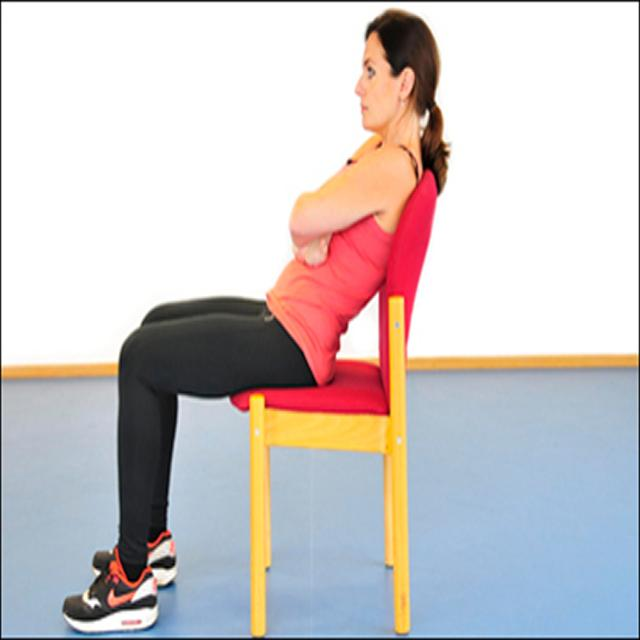sit: (74, 9, 437, 607)
